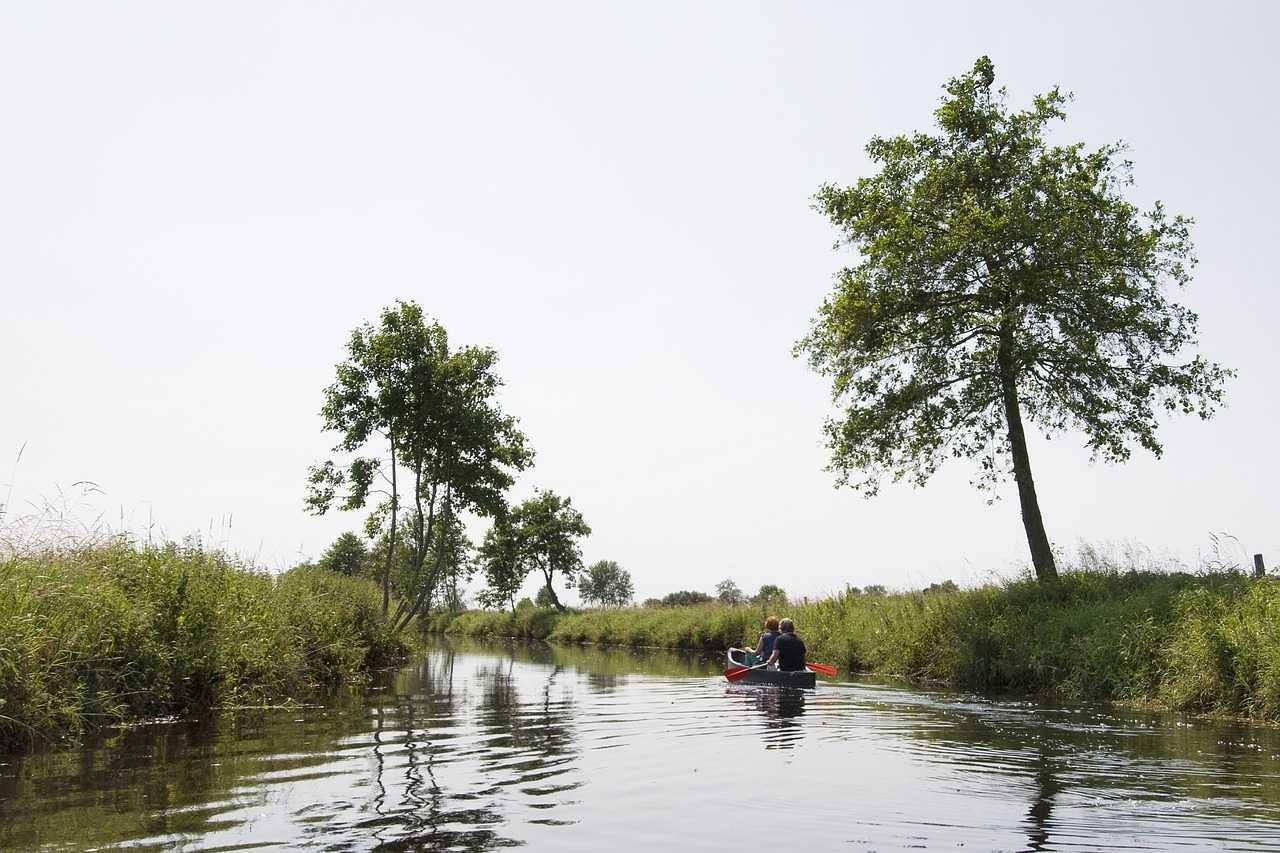kayak: (723, 650, 822, 687)
